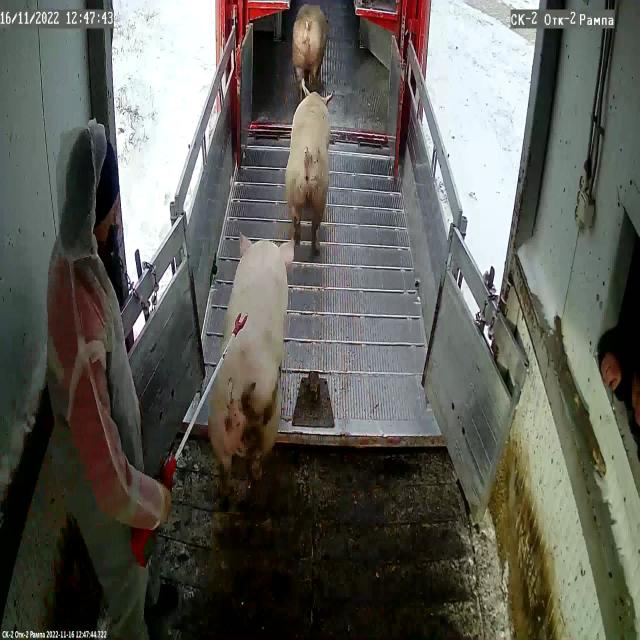pig: (208, 234, 294, 474), (285, 90, 332, 253), (292, 5, 328, 90)
